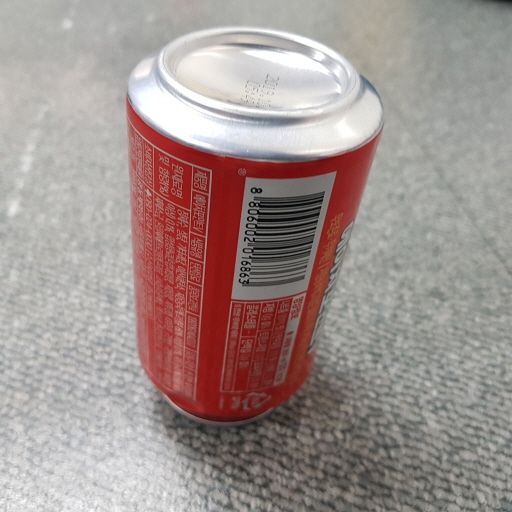Metal_0: (121, 25, 382, 426)
